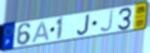1: (55, 16, 66, 42)
3: (117, 6, 133, 31)
6: (15, 22, 32, 47)
A: (31, 20, 50, 44)
J: (98, 10, 114, 34), (76, 13, 91, 36)
